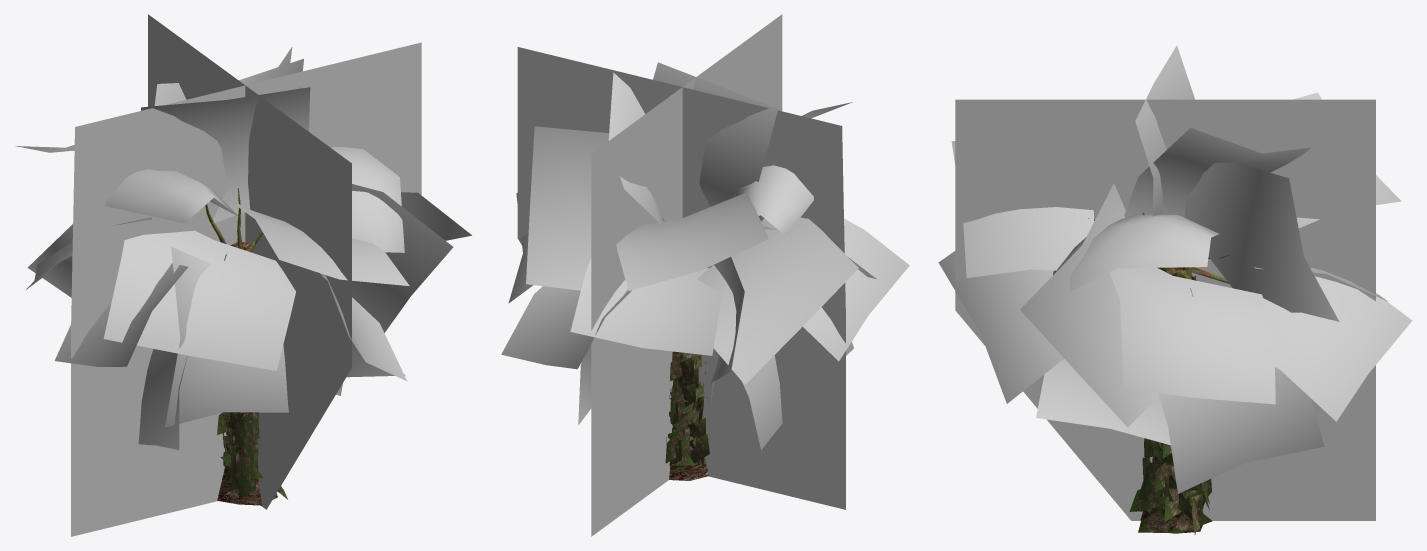
Rendered from Windmill3.fbx.
3 views of the same model, side by side, from view 1: azimuth 30°, elevation 25°; view 2: azimuth 150°, elevation 25°; view 3: azimuth 270°, elevation 25° (orthographic). The views are drawn at different scales.
Visible parts, largest first — view 1: Billboard, LOD0; view 2: LOD0, Billboard; view 3: LOD0, Billboard.
Boxes of the visible parts, box(x1,y1,x2,y2) form: Billboard: box(71, 14, 421, 536); LOD0: box(15, 47, 471, 505); LOD0: box(501, 62, 909, 480); Billboard: box(517, 14, 845, 536); LOD0: box(938, 45, 1412, 534); Billboard: box(955, 99, 1375, 520).
Size of what is drawn, in the model's own units: 239 by 236 by 238.
